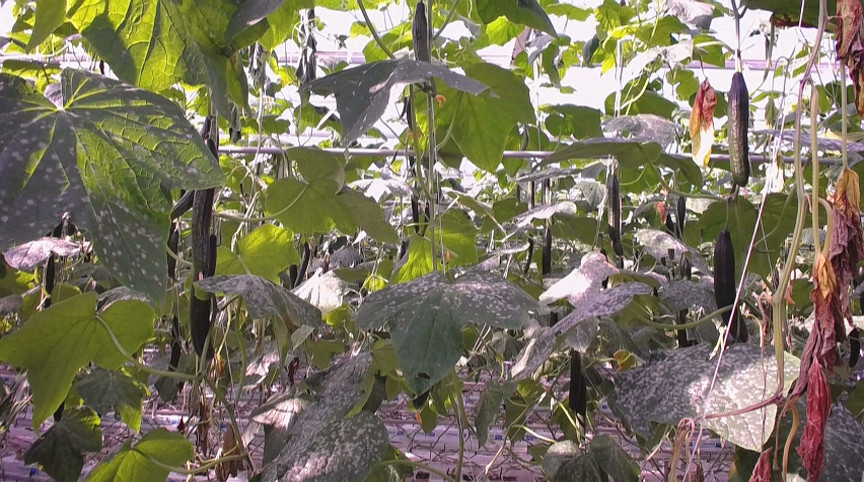cucumber: (713, 232, 751, 343), (193, 140, 218, 273), (728, 71, 750, 186), (187, 294, 216, 357), (408, 2, 432, 68), (568, 351, 582, 413), (607, 171, 619, 239), (538, 229, 553, 276)
